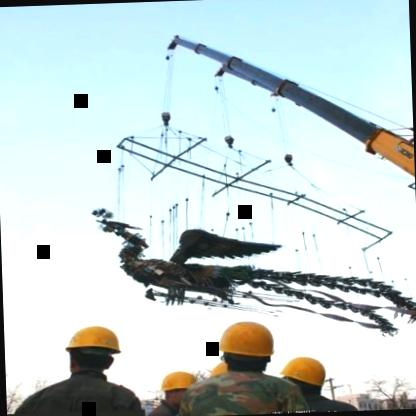helmet: (208, 313, 285, 379), (56, 317, 128, 380), (268, 346, 333, 402), (156, 365, 200, 410)
